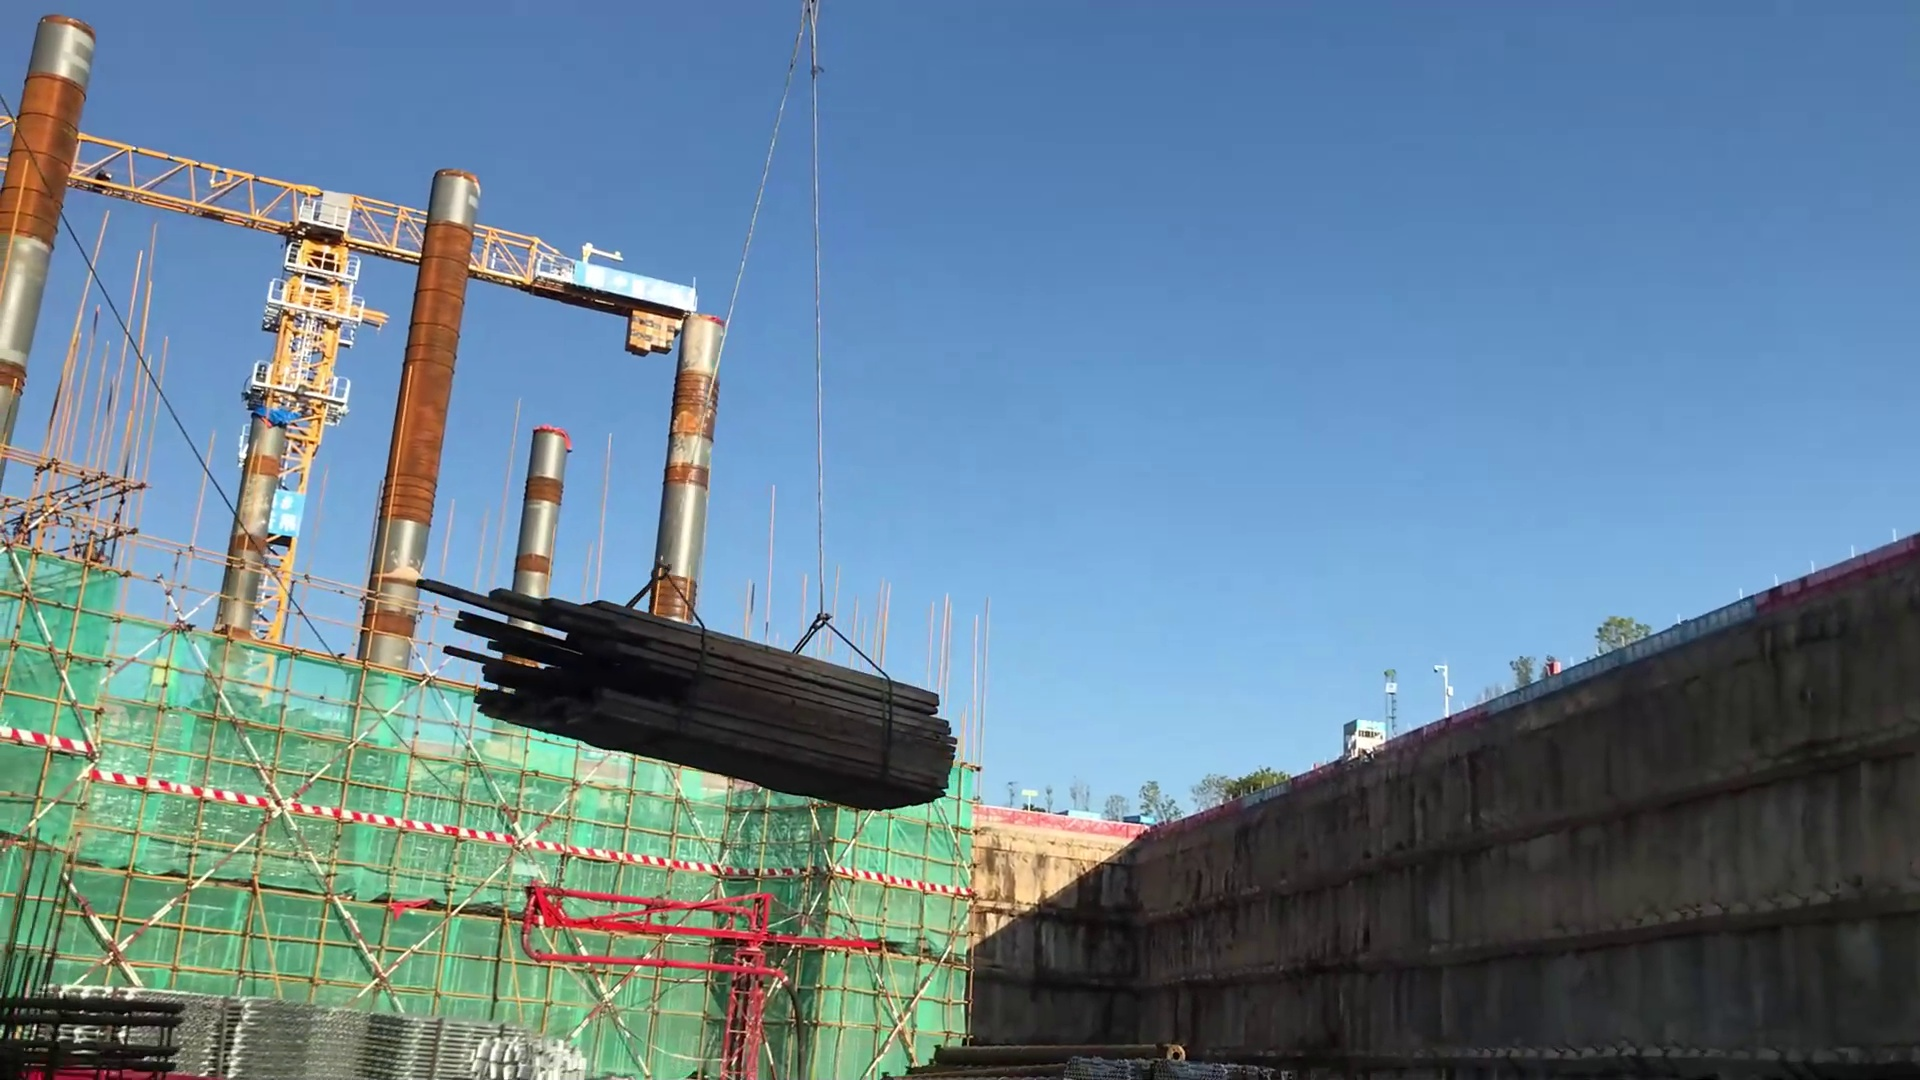scaffold: (32, 973, 611, 1080)
wood: (396, 566, 963, 820)
